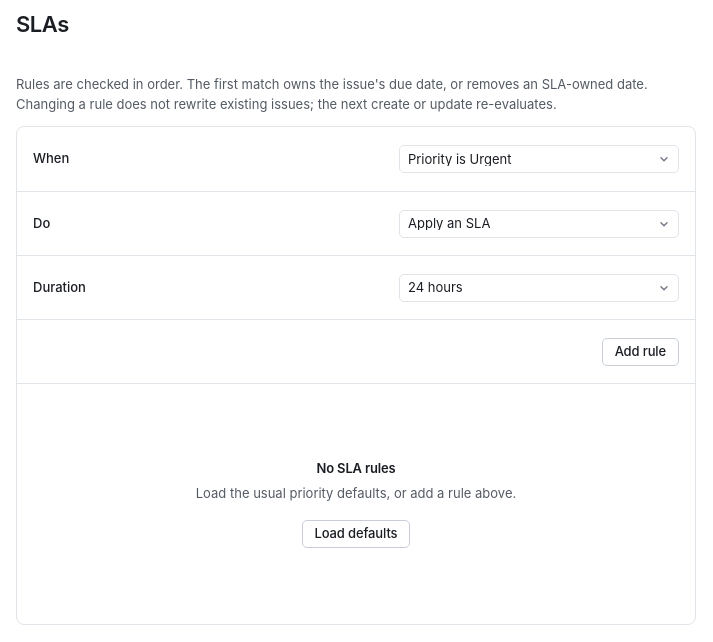
Test: SlaSettings rows › drops the duration row when the action removes the SLA
Select "Remove the SLA" in the 2nd dropdown named "Do" at (539, 224), box x1=400 y1=210 x2=678 y2=236
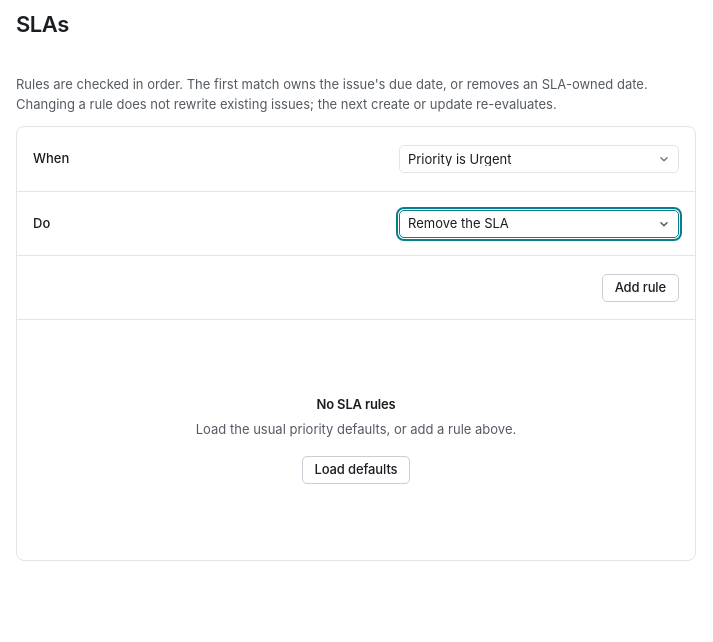
Check: the text "Duration" is gone
